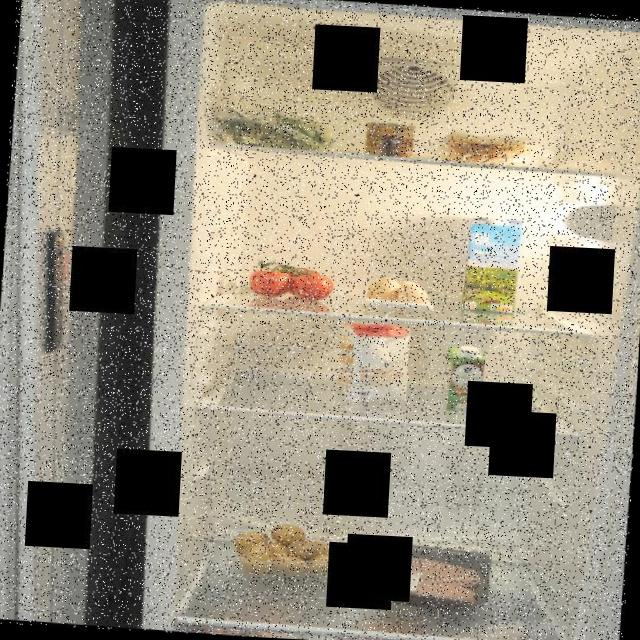Carne pollo: (375, 545, 491, 605)
Huevos: (361, 275, 446, 311)
Leche: (459, 210, 527, 324)
Patata: (226, 516, 334, 580)
Tomate: (248, 260, 339, 303)
bread: (436, 128, 535, 170)
corn: (358, 118, 418, 162)
green_beans: (220, 101, 344, 156)
heavy_cream: (440, 342, 484, 416)
sugar: (337, 318, 411, 408)
